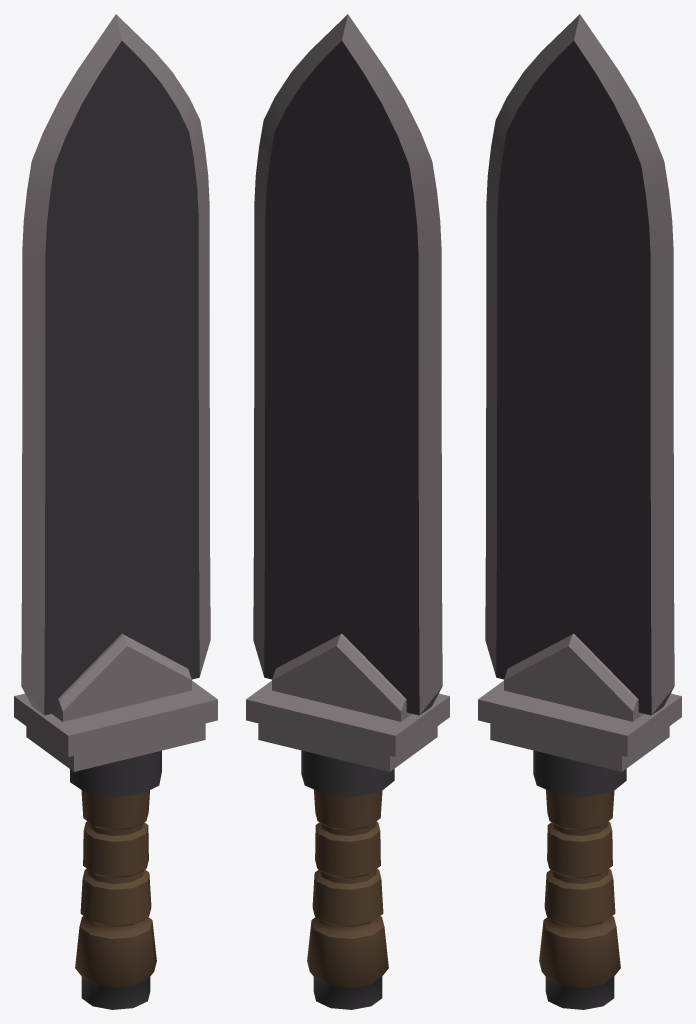
Rendered from sword.glb.
3 renders of one model, left to right at view 1: azimuth 30°, elevation 25°; view 2: azimuth 150°, elevation 25°; view 3: azimuth 330°, elevation 25°, orthographic.
Parts seen in each view (by area): view 1: Weapon_Sword_1; view 2: Weapon_Sword_1; view 3: Weapon_Sword_1.
Part boxes in pixels (x1,y1,x2,y2): Weapon_Sword_1: (14, 14, 217, 1009); Weapon_Sword_1: (246, 14, 449, 1009); Weapon_Sword_1: (478, 14, 681, 1009).
Bounding box in the file's own units: 0.2752 × 1.37 × 0.1367.
Materials: 1 (1 with a texture image).
